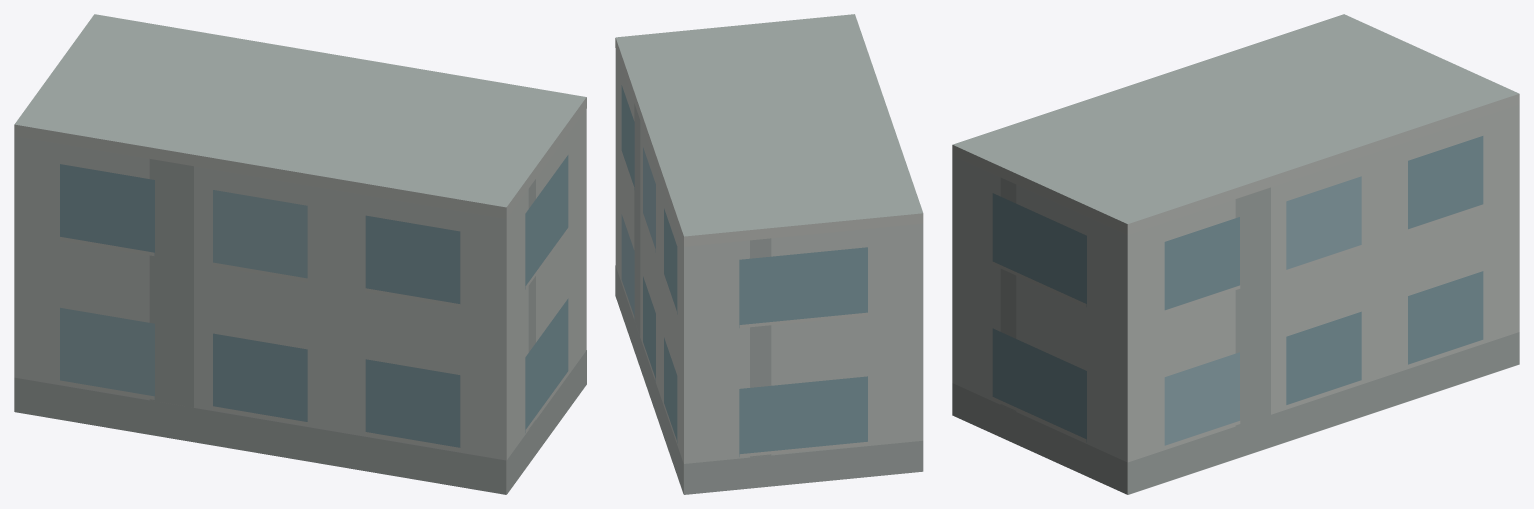
The model's file is survey-upis-32866993.glb.
3 renders of one model, left to right at view 1: azimuth 30°, elevation 25°; view 2: azimuth 150°, elevation 25°; view 3: azimuth 270°, elevation 25°, orthographic. The views are drawn at different scales.
Parts seen in each view (by area): view 1: survey-upis-32866993.tmp; view 2: survey-upis-32866993.tmp; view 3: survey-upis-32866993.tmp.
Boxes of the visible parts, <box> form: survey-upis-32866993.tmp: <box>14,14,586,494</box>; survey-upis-32866993.tmp: <box>615,14,923,494</box>; survey-upis-32866993.tmp: <box>952,14,1519,494</box>.
Size of the model in its own units: 10.17 by 6.1 by 11.59.
